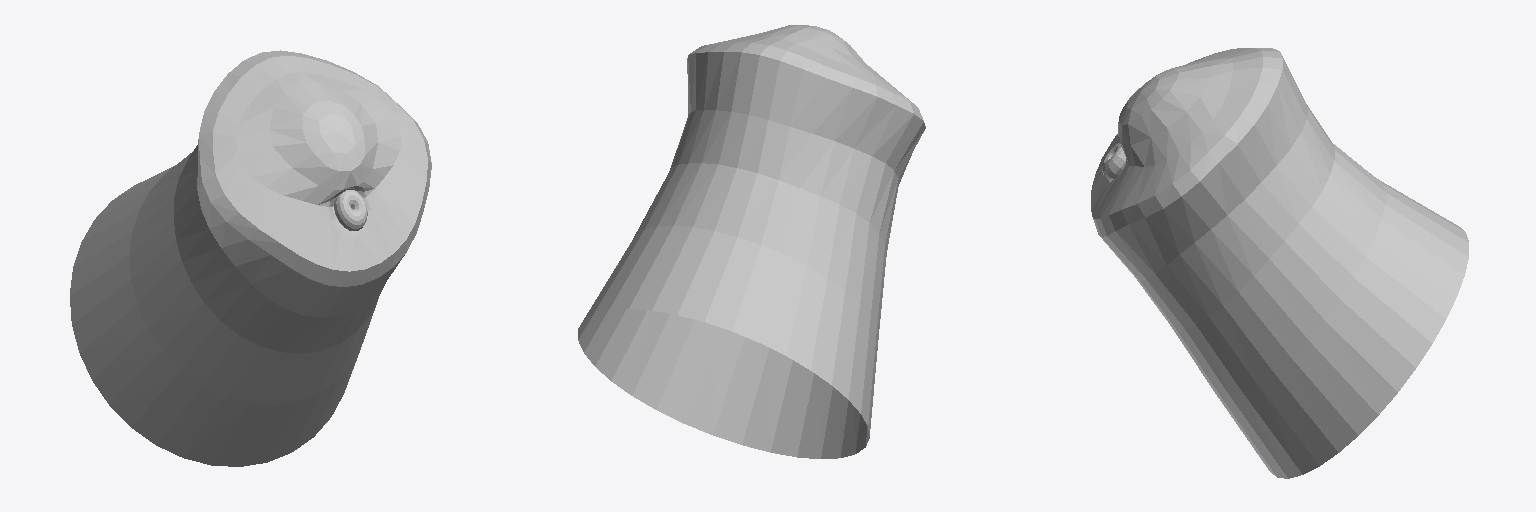
The model's file is 1Anthro shaft in.obj.
The picture shows the model from 3 angles: view 1: azimuth 30°, elevation 25°; view 2: azimuth 150°, elevation 25°; view 3: azimuth 270°, elevation 25°; orthographic projection.
Visible parts, largest first — view 1: dick_in_sheath.010_horsecock.021; view 2: dick_in_sheath.010_horsecock.021; view 3: dick_in_sheath.010_horsecock.021.
Part boxes in pixels (left/top/right/bottom): dick_in_sheath.010_horsecock.021: left=70, top=50, right=431, bottom=466; dick_in_sheath.010_horsecock.021: left=578, top=25, right=925, bottom=458; dick_in_sheath.010_horsecock.021: left=1091, top=48, right=1468, bottom=478.
Bounding box in the file's own units: 1.52 × 2.18 × 1.85.